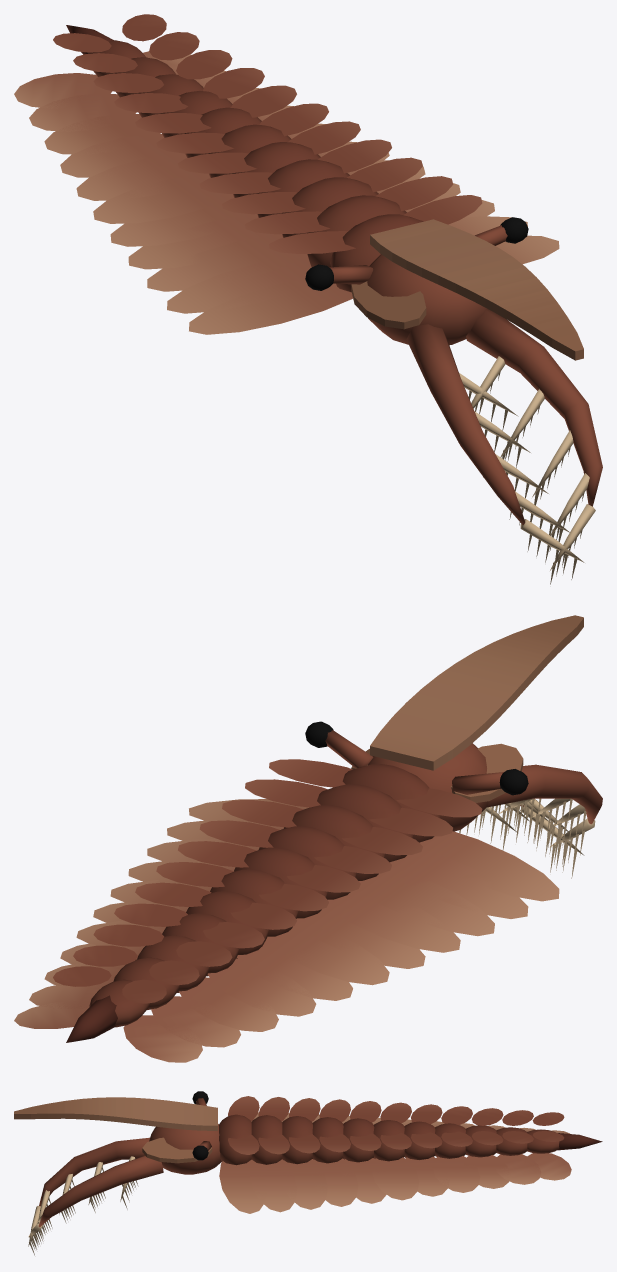
Rendered from AegirocassisBenmoulai.fbx.
The picture shows the model from 3 angles, top to bottom: view 1: azimuth 30°, elevation 25°; view 2: azimuth 150°, elevation 25°; view 3: azimuth 270°, elevation 25°; orthographic projection. The views are drawn at different scales.
Parts seen in each view (by area): view 1: AegirocassisBenmoulai; view 2: AegirocassisBenmoulai; view 3: AegirocassisBenmoulai.
Part boxes in pixels (<box>): AegirocassisBenmoulai: <box>14,14,602,584</box>; AegirocassisBenmoulai: <box>14,615,602,1062</box>; AegirocassisBenmoulai: <box>14,1091,602,1255</box>.
Bounding box in the file's own units: 0.84 × 0.5612 × 2.02.
